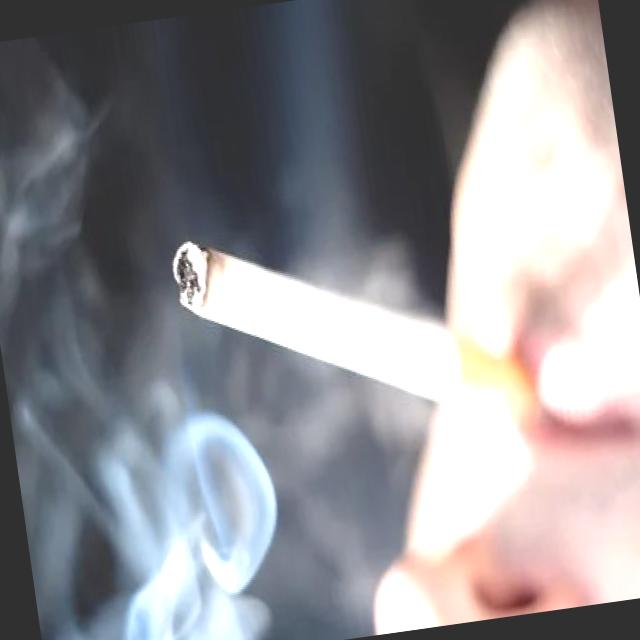smoke: (164, 190, 546, 479)
